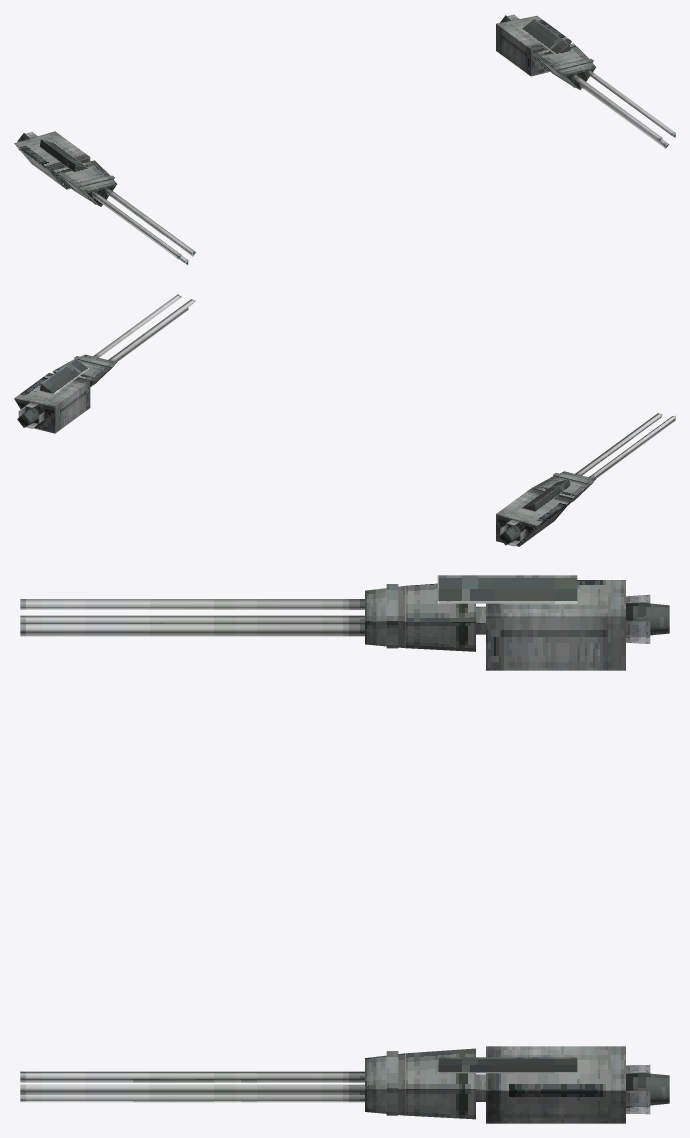
The model's file is black_sun_fighter_heavy_weapon3_s04_l2.fbx.
3 views of the same model, one above another, from view 1: azimuth 30°, elevation 25°; view 2: azimuth 150°, elevation 25°; view 3: azimuth 270°, elevation 25° (orthographic). The views are drawn at different scales.
Visible parts, largest first — view 1: mesh_node; view 2: mesh_node; view 3: mesh_node.
Boxes of the visible parts, <box> form: mesh_node: <box>14,14,675,264</box>; mesh_node: <box>14,294,675,546</box>; mesh_node: <box>20,575,669,1123</box>.
Size of the model in its own units: 14.2 by 0.8971 by 7.63.
1 material, 1 textured.
